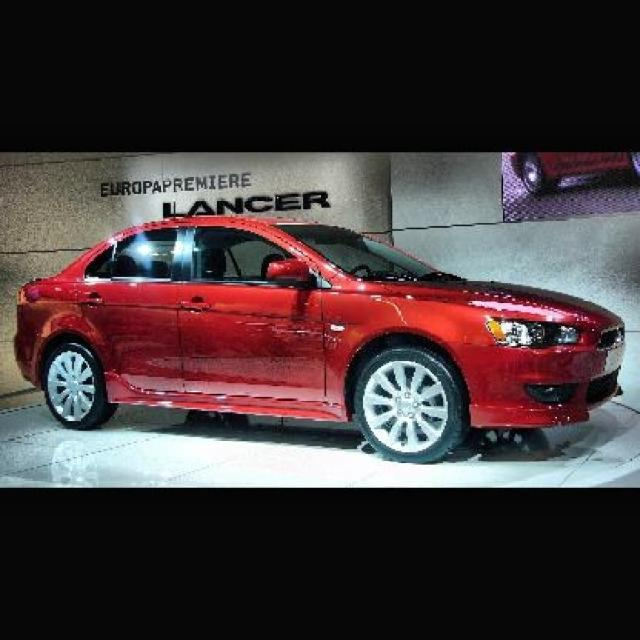red: (18, 210, 635, 454)
